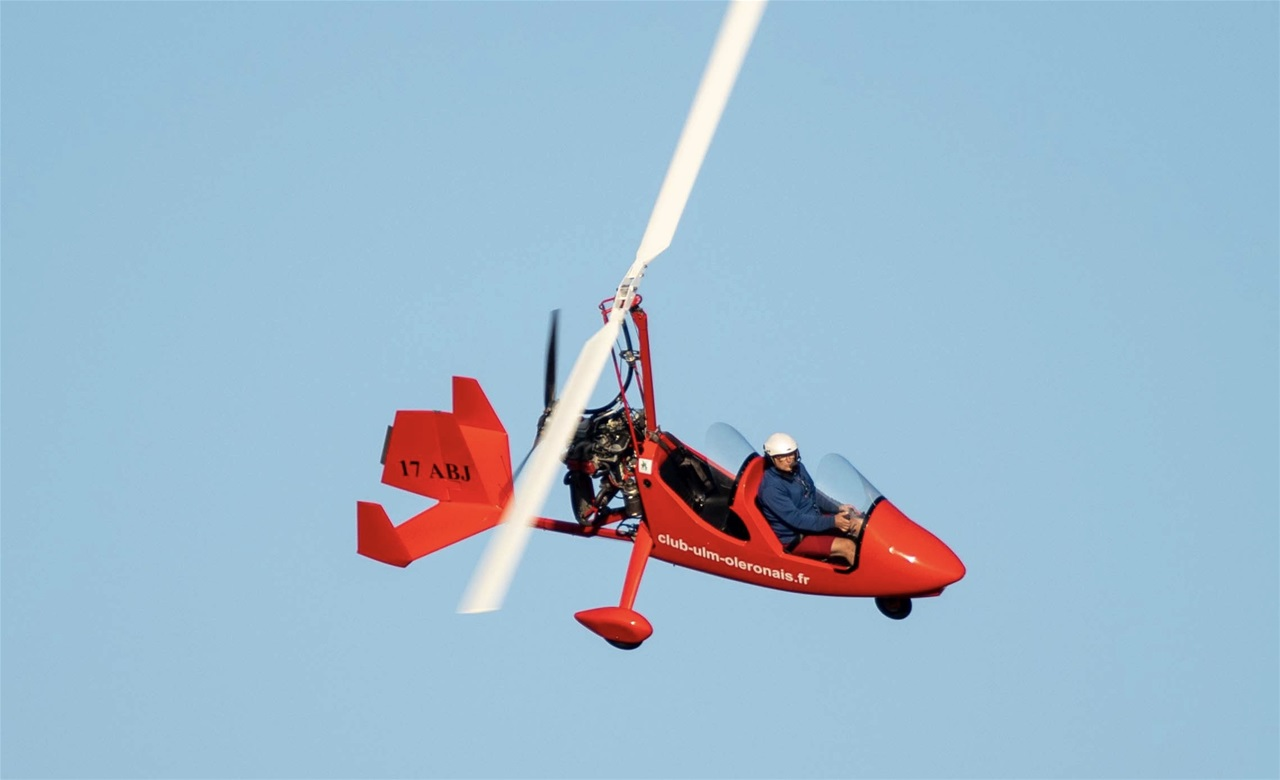Aeronef_de_loisir: (328, 1, 1005, 667)
